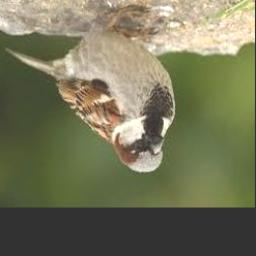Sparrow: (5, 5, 175, 173)
